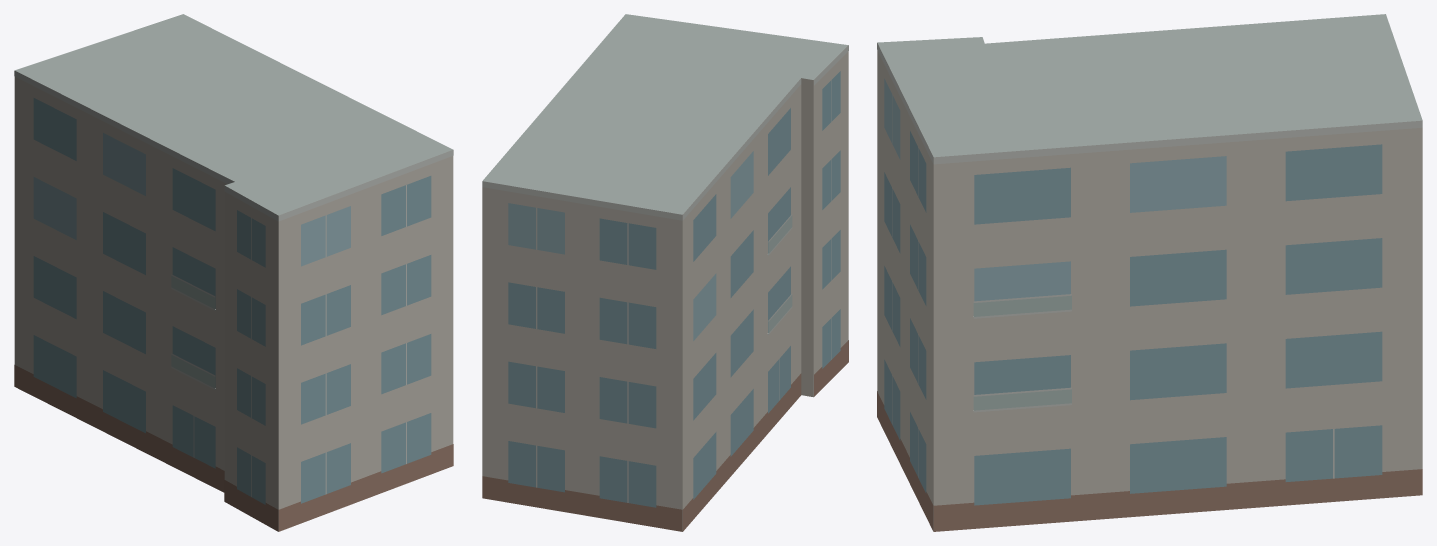
The model's file is survey-upis-33035037.glb.
The picture shows the model from 3 angles, left to right: view 1: azimuth 30°, elevation 25°; view 2: azimuth 150°, elevation 25°; view 3: azimuth 270°, elevation 25°; orthographic projection. The views are drawn at different scales.
Parts seen in each view (by area): view 1: survey-upis-33035037.tmp; view 2: survey-upis-33035037.tmp; view 3: survey-upis-33035037.tmp.
Boxes of the visible parts, x1,y1,x2,y2 form: survey-upis-33035037.tmp: [14, 14, 453, 531]; survey-upis-33035037.tmp: [482, 14, 848, 531]; survey-upis-33035037.tmp: [877, 14, 1422, 531].
Bounding box in the file's own units: 10.59 × 12.9 × 17.04.
